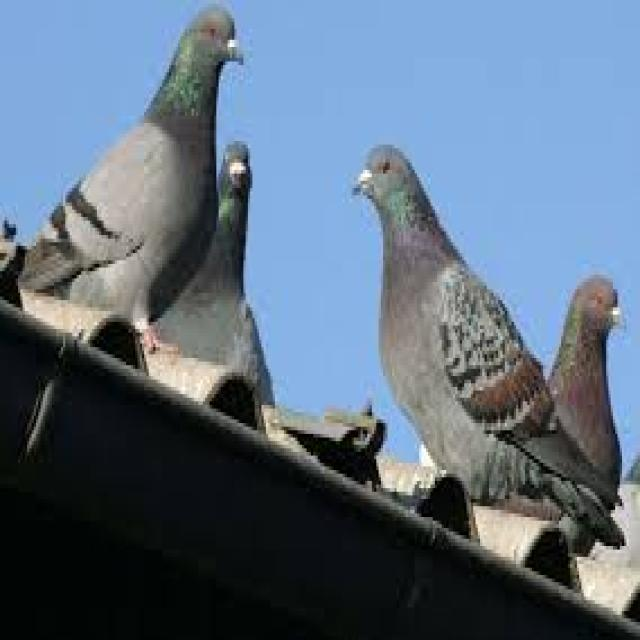pigeon: (348, 130, 626, 550)
